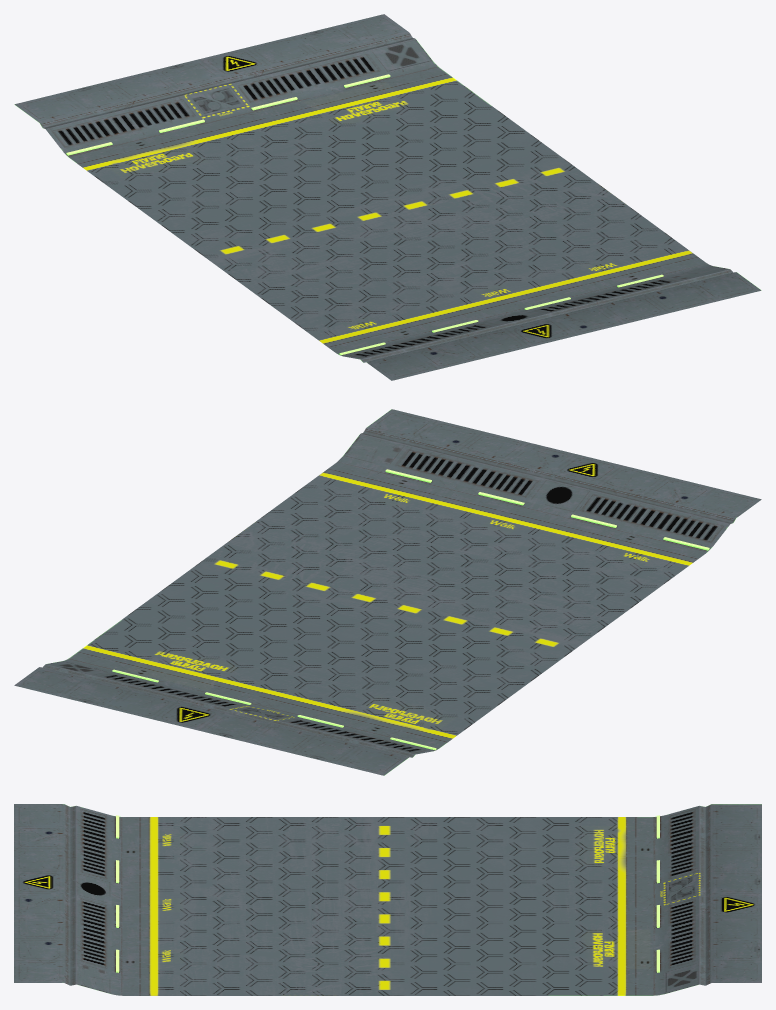
File: road1.glb
3 renders of one model, top to bottom at view 1: azimuth 30°, elevation 25°; view 2: azimuth 150°, elevation 25°; view 3: azimuth 270°, elevation 25°, orthographic.
Visible parts, largest first — view 1: Road; view 2: Road; view 3: Road.
Boxes of the visible parts, bbox=[...] form: Road: bbox=[14, 14, 761, 380]; Road: bbox=[14, 409, 761, 775]; Road: bbox=[14, 804, 761, 995].
Bounding box in the file's own units: 10 × 0.3372 × 17.67.
1 material, 1 textured.
